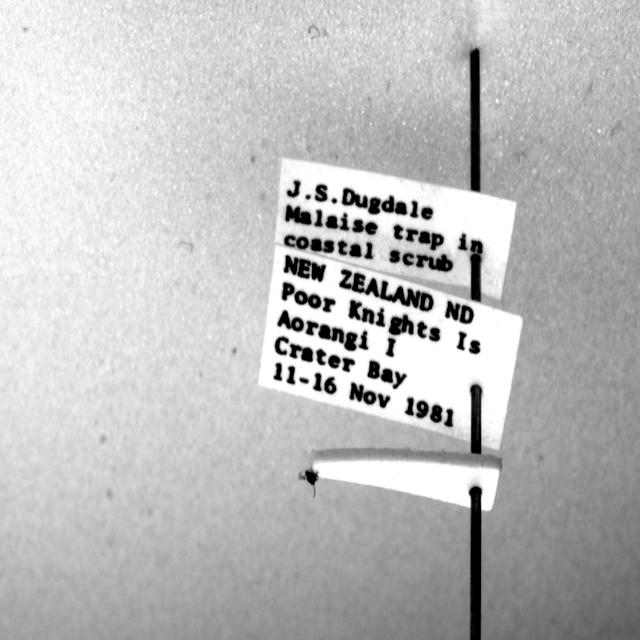typed_label: (259, 246, 522, 450), (275, 158, 516, 300)
